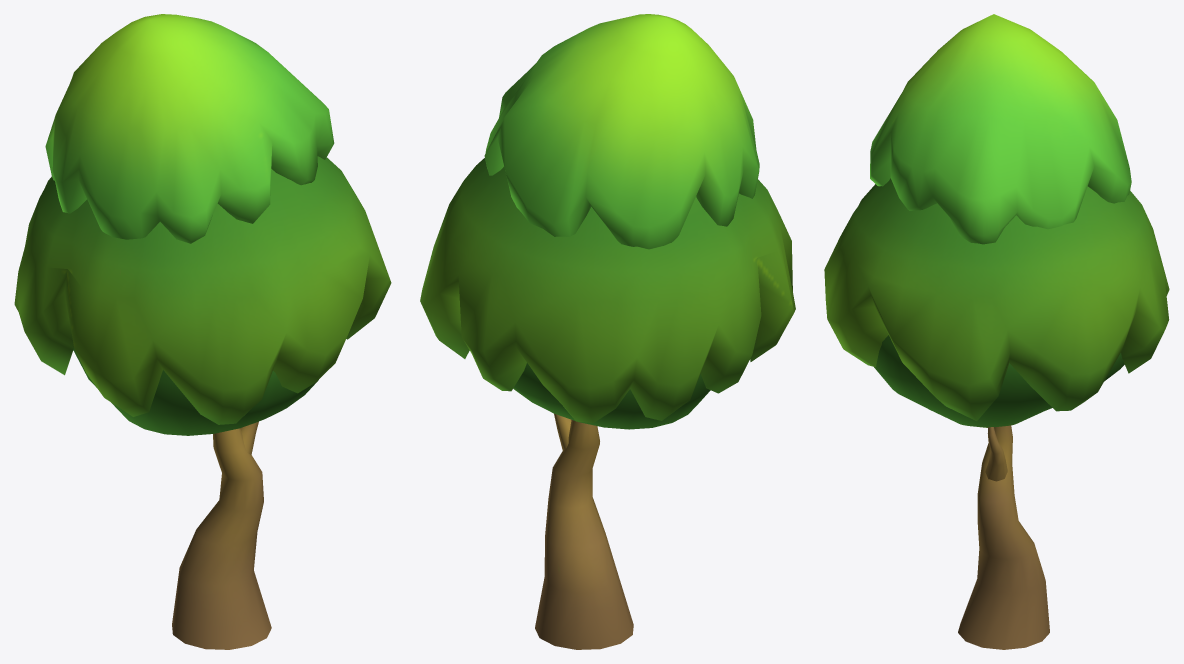
The model's file is SM_Tree_10.fbx.
The picture shows the model from 3 angles, left to right: view 1: azimuth 30°, elevation 25°; view 2: azimuth 150°, elevation 25°; view 3: azimuth 270°, elevation 25°; orthographic projection. The views are drawn at different scales.
Visible parts, largest first — view 1: tree10_LOD0; view 2: tree10_LOD0; view 3: tree10_LOD0.
Boxes of the visible parts, x1,y1,x2,y2 form: tree10_LOD0: (14,14,391,649); tree10_LOD0: (420,14,795,649); tree10_LOD0: (824,14,1169,649).
Size of what is drawn, in the model's own units: 977 by 1814 by 975.
1 material, 1 textured.
